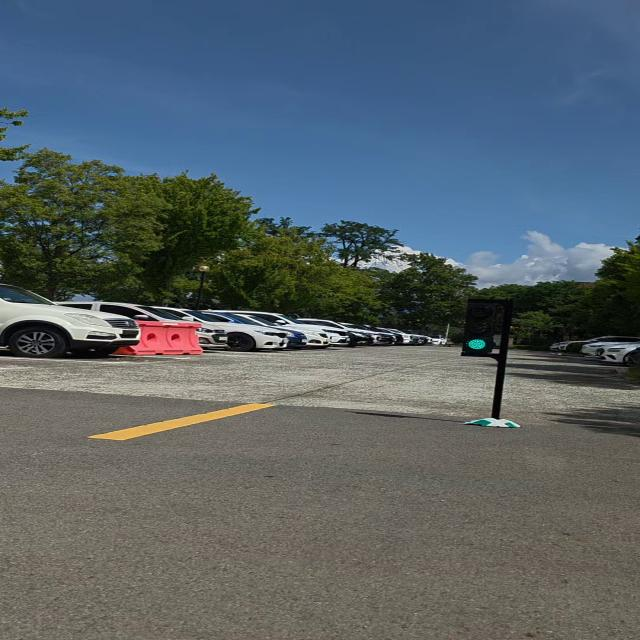green: (459, 296, 498, 357)
